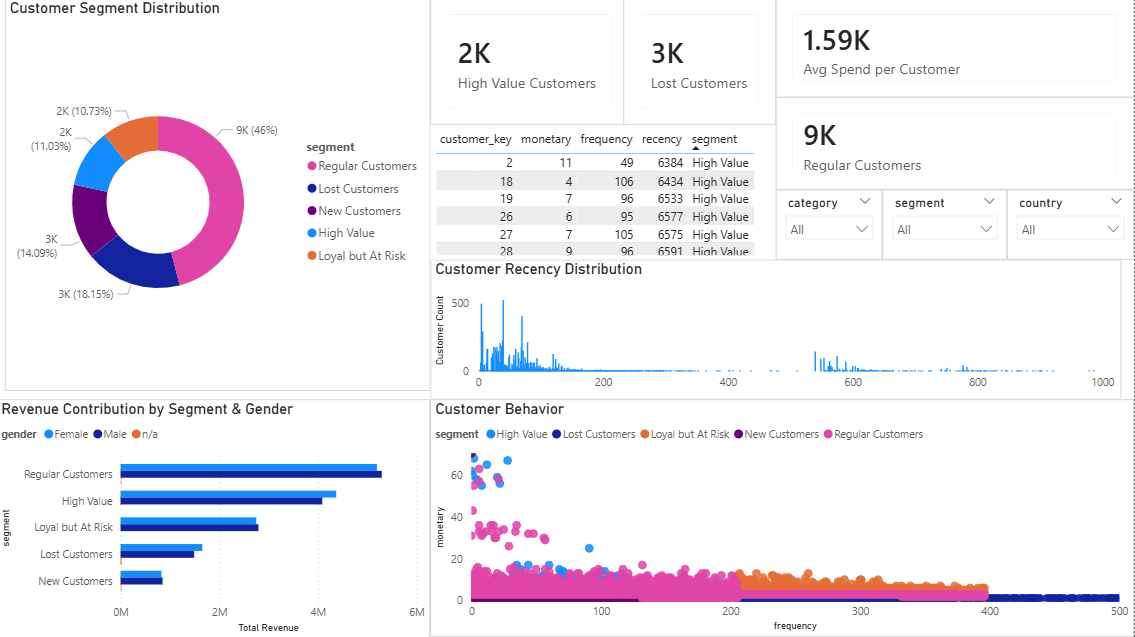

The dashboard page shown, as its layout file describes it:
{"tool":"powerbi","page":{"name":"Customer Intelligence","canvas":[1280,720],"ordinal":1},"visuals":[{"type":"donutChart","title":"Customer Segment Distribution","fields":{"Category":["customer_rfm data.segment"],"Y":["customer_rfm data.Customer Count"]},"box":[10,0,478.6,441.4],"z":0},{"type":"clusteredBarChart","title":"Revenue Contribution by Segment & Gender","fields":{"Y":["fact_sales.Total Revenue"],"Category":["customer_rfm data.segment"],"Series":["dim_customers.gender"]},"box":[0,451.4,488.6,268.6],"z":1000},{"type":"scatterChart","title":"Customer Behavior","fields":{"X":["customer_rfm data.frequency"],"Series":["customer_rfm data.segment"],"Y":["customer_rfm data.monetary"]},"box":[488.6,451.4,791.4,267.1],"z":2000},{"type":"columnChart","title":"Customer Recency Distribution","fields":{"Category":["customer_rfm data.recency"],"Y":["customer_rfm data.Customer Count"]},"box":[488.6,294.3,777.1,157.1],"z":3000},{"type":"tableEx","fields":{"Values":["customer_rfm data.customer_key","customer_rfm data.monetary","customer_rfm data.frequency","customer_rfm data.recency","customer_rfm data.segment"]},"box":[488.6,142.9,405.7,151.4],"z":4000},{"type":"slicer","fields":{"Values":["dim_customers.country"]},"box":[1137.1,215.7,142.9,78.6],"z":4001},{"type":"slicer","fields":{"Values":["customer_rfm data.segment"]},"box":[997.1,215.7,140,78.6],"z":4002},{"type":"slicer","fields":{"Values":["dim_products.category"]},"box":[877.1,215.7,120,78.6],"z":4003},{"type":"cardVisual","fields":{"Data":["customer_rfm data.High Value Customers"]},"box":[488.6,0,222.9,142.9],"z":4004},{"type":"cardVisual","fields":{"Data":["customer_rfm data.Lost Customers"]},"box":[705.7,0,171.4,142.9],"z":4005},{"type":"cardVisual","fields":{"Data":["customer_rfm data.Regular Customers"]},"box":[877.1,111.4,402.9,104.3],"z":4006},{"type":"cardVisual","fields":{"Data":["customer_rfm data.Avg Spend per Customer"]},"box":[877.1,0,402.9,111.4],"z":4007}]}

Visuals, with their boxes in screenshot pixels (x1, y1, x2, y2), scaled from the page's 1280x720 canvas onto the 1135x637 screenshot:
"Customer Segment Distribution" donutChart: [9, 0, 433, 391]
"Revenue Contribution by Segment & Gender" clusteredBarChart: [0, 399, 433, 636]
"Customer Behavior" scatterChart: [433, 399, 1134, 636]
"Customer Recency Distribution" columnChart: [433, 260, 1122, 399]
tableEx - customer_rfm data.customer_key x customer_rfm data.monetary: [433, 126, 793, 260]
slicer - dim_customers.country: [1008, 191, 1134, 260]
slicer - customer_rfm data.segment: [884, 191, 1008, 260]
slicer - dim_products.category: [778, 191, 884, 260]
cardVisual - customer_rfm data.High Value Customers: [433, 0, 631, 126]
cardVisual - customer_rfm data.Lost Customers: [626, 0, 778, 126]
cardVisual - customer_rfm data.Regular Customers: [778, 99, 1134, 191]
cardVisual - customer_rfm data.Avg Spend per Customer: [778, 0, 1134, 99]
